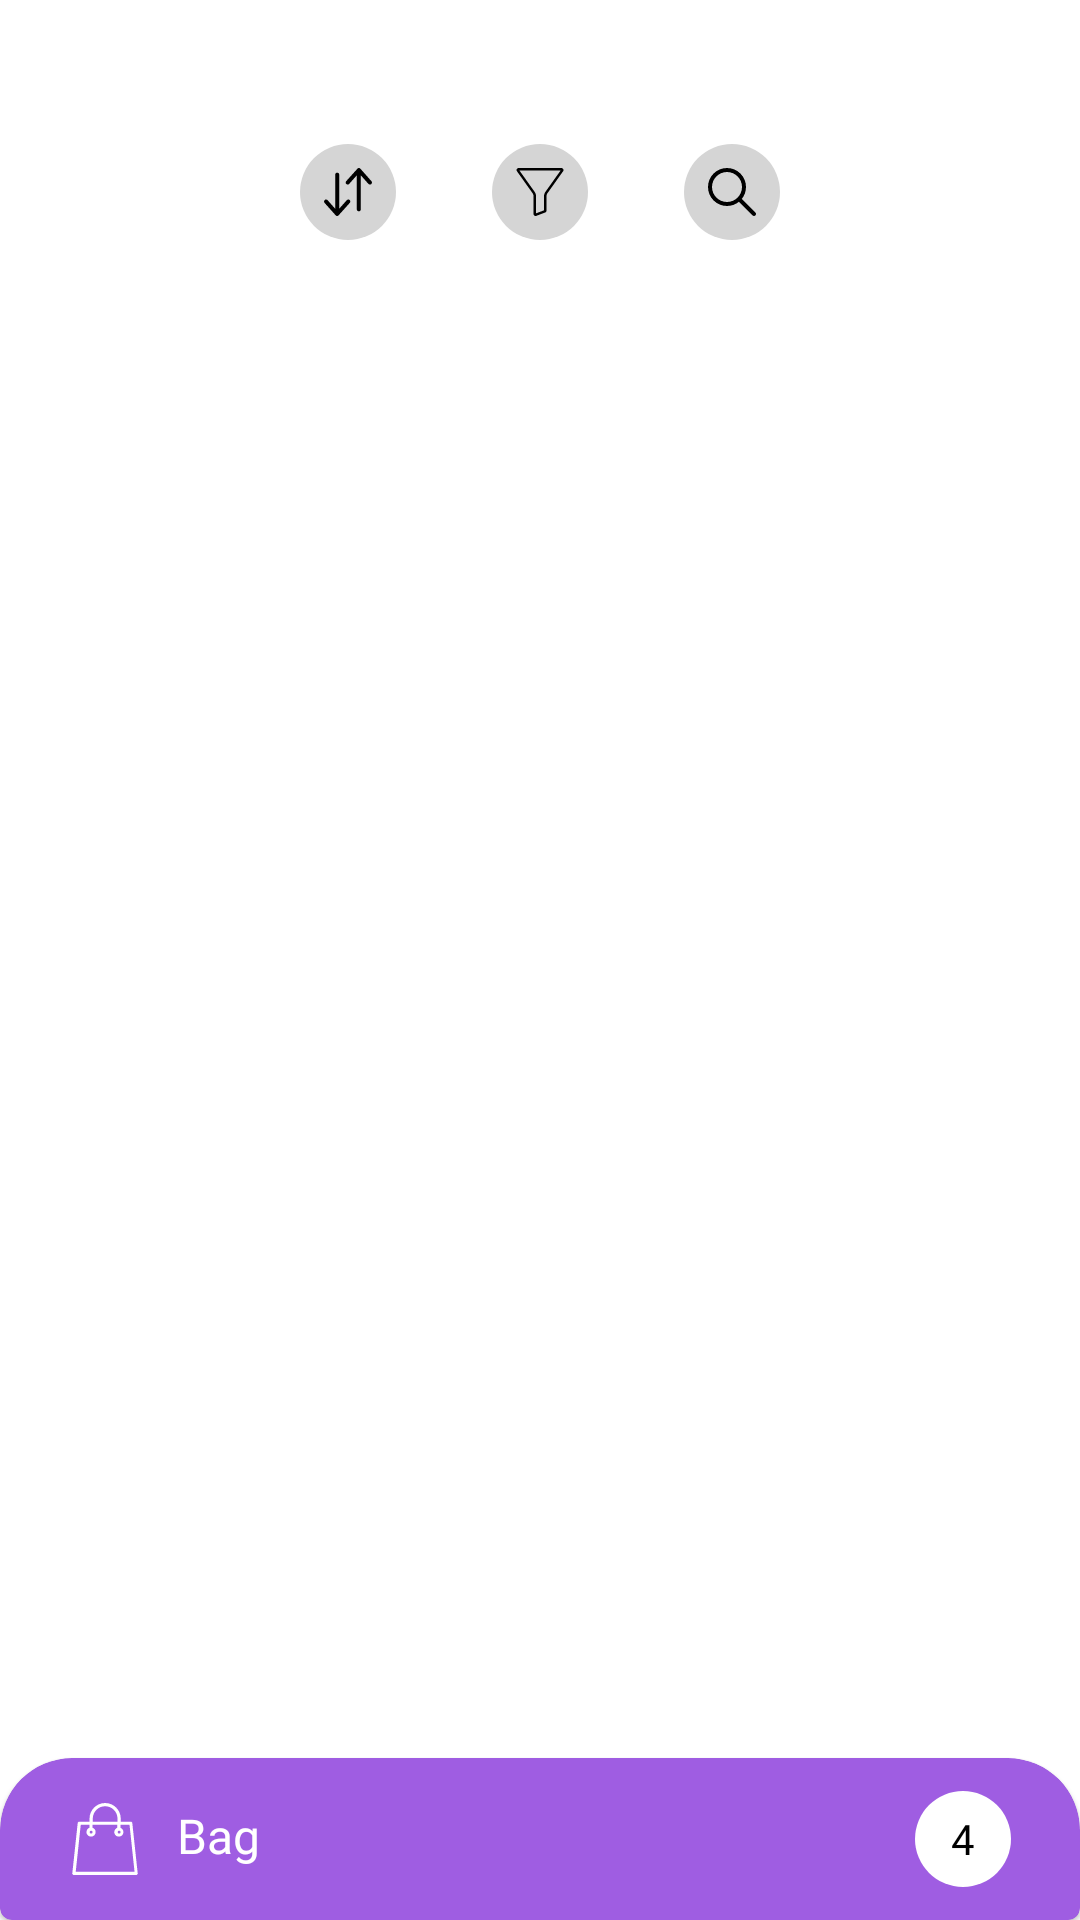

Screen size 1080*1920. Icon name, then its center in pixels as (x,y):
filter: (540,192)
search: (732,192)
sort: (348,192)
